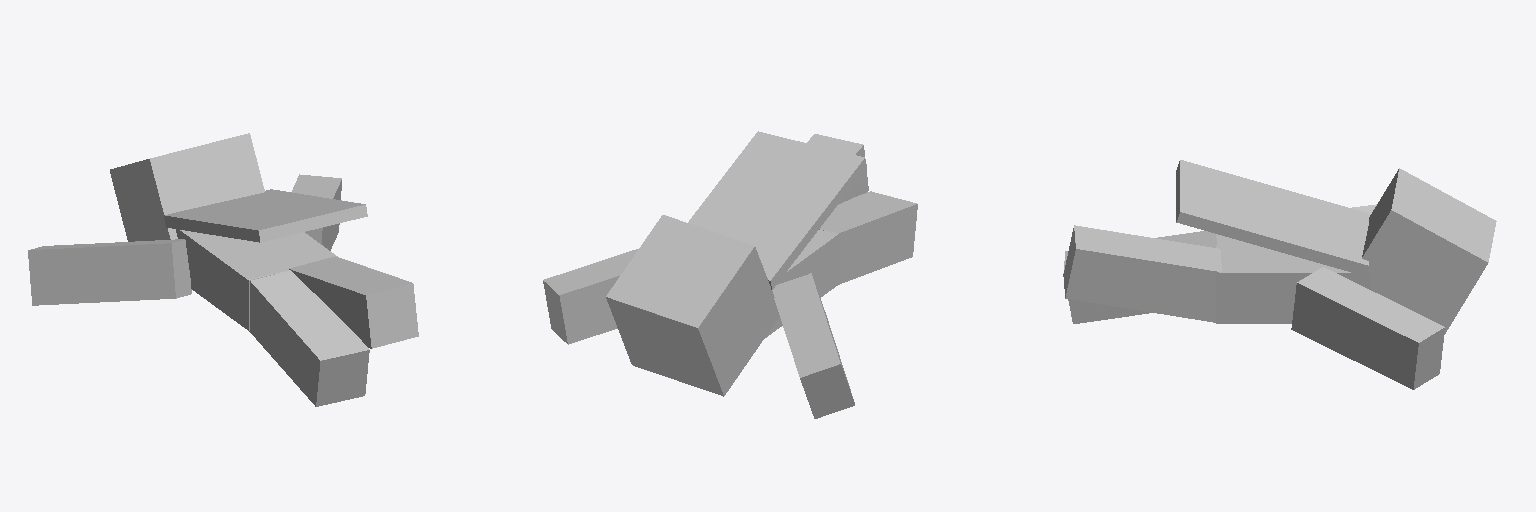
File: scorpionem_sneak.obj
3 views of the same model, side by side, from view 1: azimuth 30°, elevation 25°; view 2: azimuth 150°, elevation 25°; view 3: azimuth 270°, elevation 25° (orthographic).
Parts seen in each view (by area): view 1: Left, Hat, Right, Body, cape; view 2: Hat, cape, Left, Right, Body; view 3: Right, Hat, cape, Body, Left.
Part boxes in pixels (left/top/right/bottom): Left: left=28, top=239, right=369, bottom=406; Hat: left=110, top=133, right=264, bottom=241; Right: left=289, top=174, right=418, bottom=348; Body: left=176, top=229, right=337, bottom=330; cape: left=164, top=189, right=367, bottom=242; Hat: left=606, top=215, right=779, bottom=396; cape: left=688, top=131, right=866, bottom=289; Left: left=772, top=191, right=917, bottom=418; Right: left=543, top=134, right=868, bottom=344; Body: left=765, top=229, right=838, bottom=337; Right: left=1063, top=225, right=1444, bottom=389; Hat: left=1362, top=168, right=1496, bottom=334; cape: left=1176, top=160, right=1368, bottom=276; Body: left=1216, top=234, right=1370, bottom=323; Left: left=1063, top=204, right=1376, bottom=323.
Bounding box in the file's own units: 1.81 × 0.8169 × 2.18.